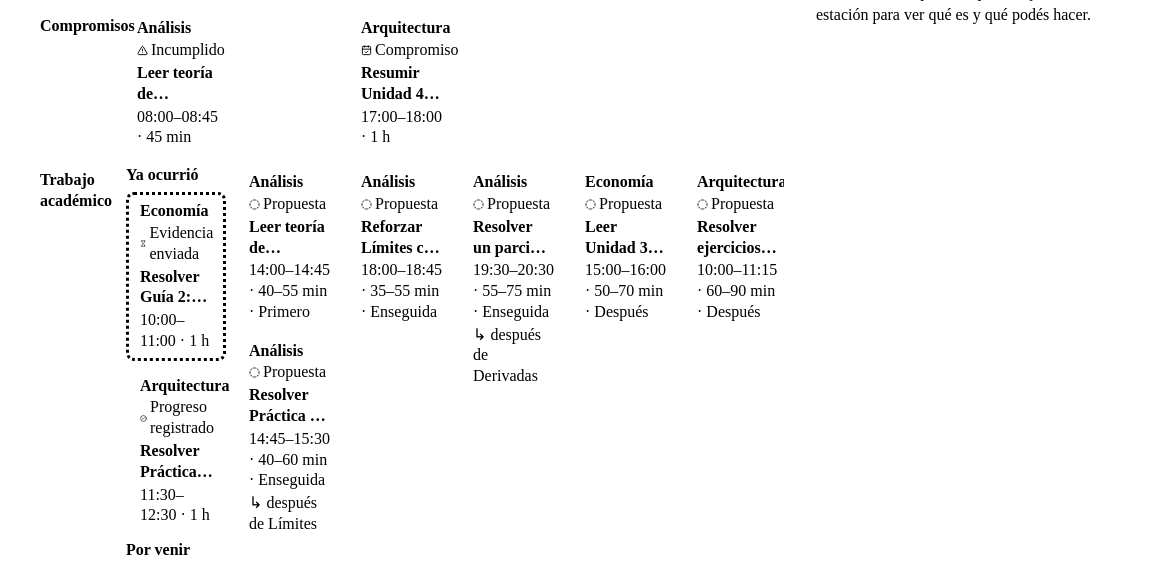
Test case: Inspector universal › una evidencia enviada sin progreso lo dice tal cual
(page scrolled)
Click the button with aria-label "Economía · Resolver Guía 2: Oferta y demanda · Evidencia env": (176, 276) 126,192 -> 226,361
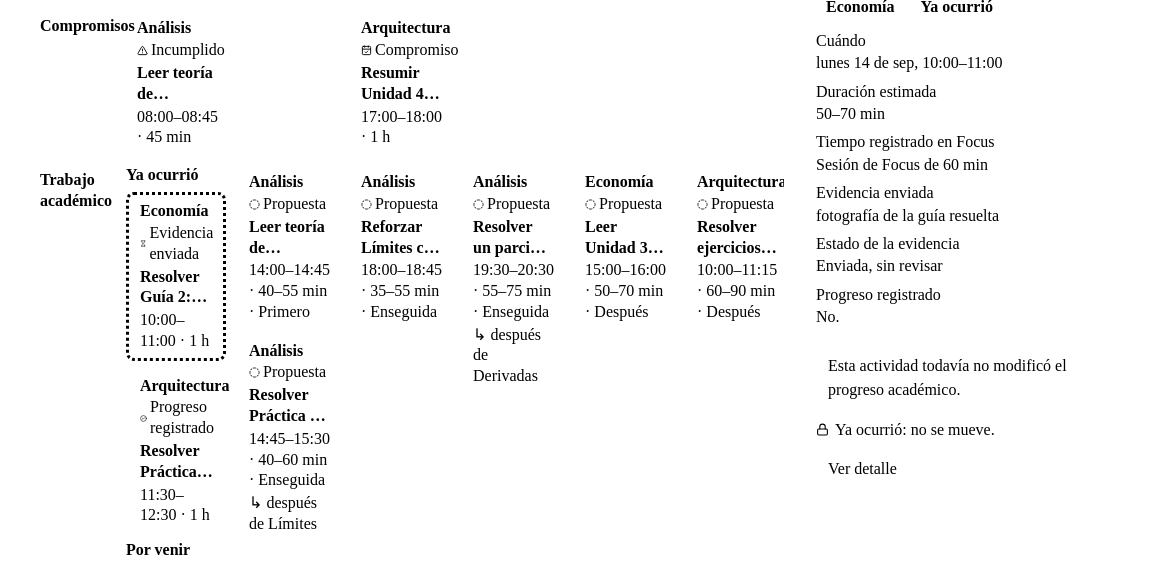
Check: the text "Esta actividad todavía no modificó el progreso académico." is shown, box 828,358 -> 1067,398
